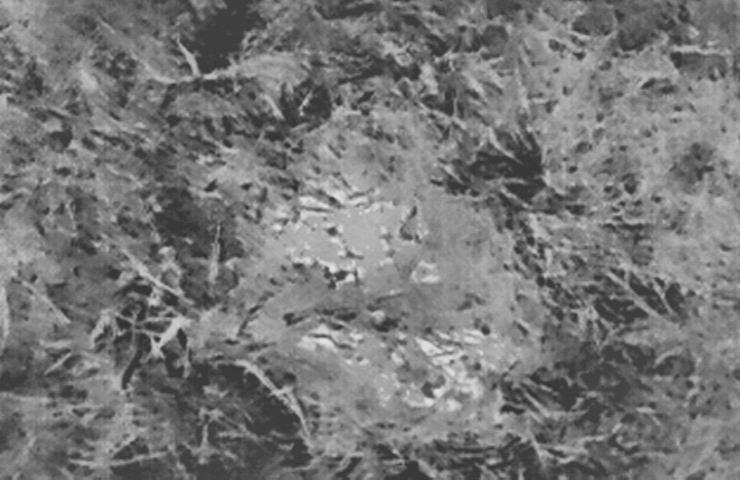landmines: (265, 187, 440, 291)
